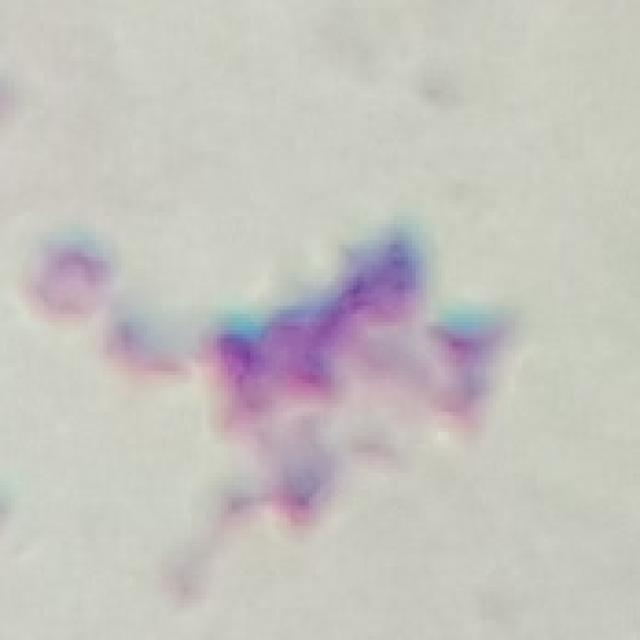non-sperm: (29, 225, 501, 532)
